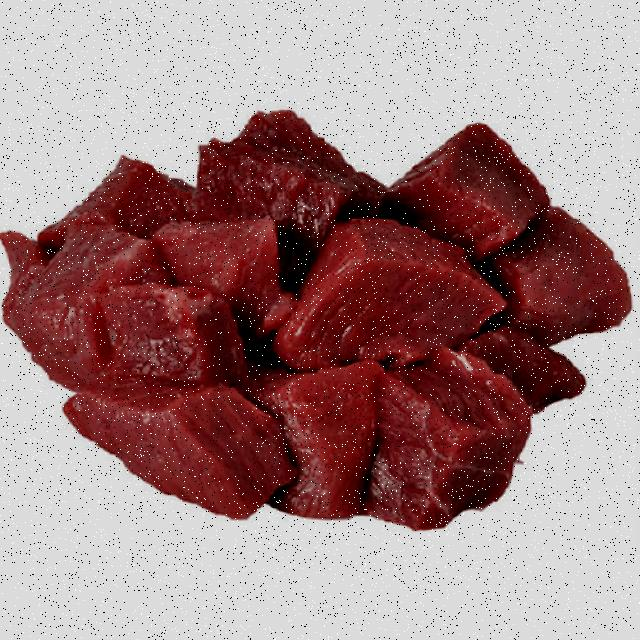Buffalo Meat: (8, 138, 640, 512)
